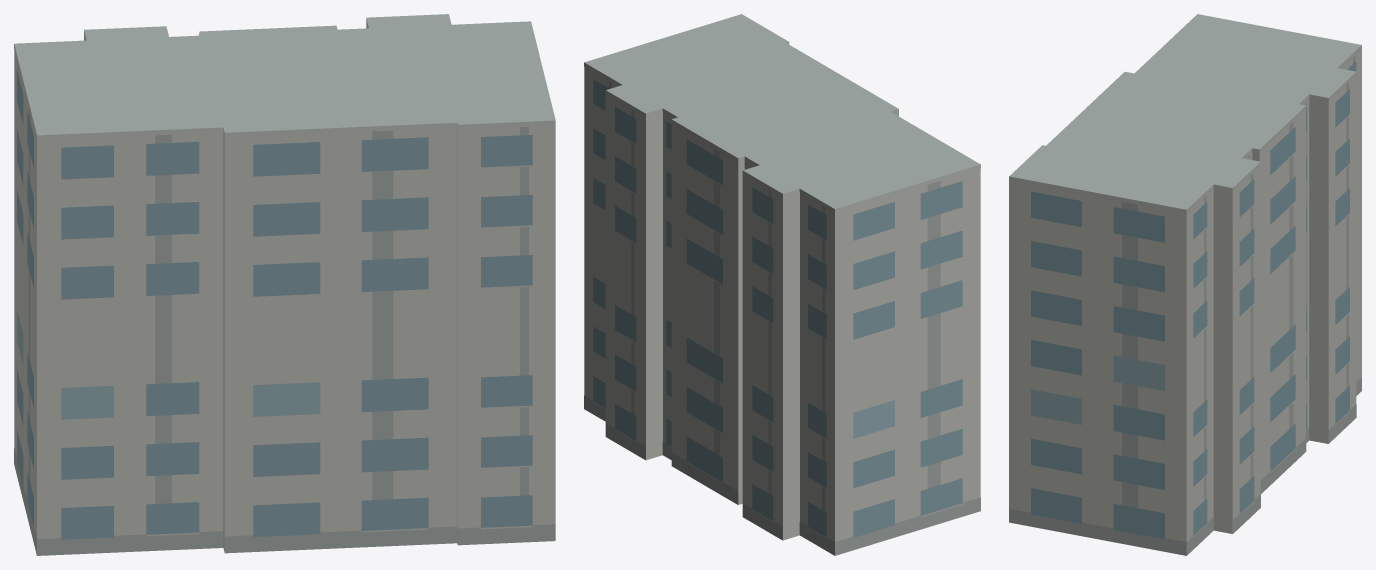
File: survey-upis-32973026.glb
3 views of the same model, side by side, from view 1: azimuth 30°, elevation 25°; view 2: azimuth 150°, elevation 25°; view 3: azimuth 270°, elevation 25° (orthographic). The views are drawn at different scales.
Parts seen in each view (by area): view 1: survey-upis-32973026.tmp; view 2: survey-upis-32973026.tmp; view 3: survey-upis-32973026.tmp.
Boxes of the visible parts, x1,y1,x2,y2 form: survey-upis-32973026.tmp: [14, 14, 555, 555]; survey-upis-32973026.tmp: [584, 14, 980, 555]; survey-upis-32973026.tmp: [1009, 14, 1361, 555].
Bounding box in the file's own units: 24.52 × 20.2 × 18.67.
